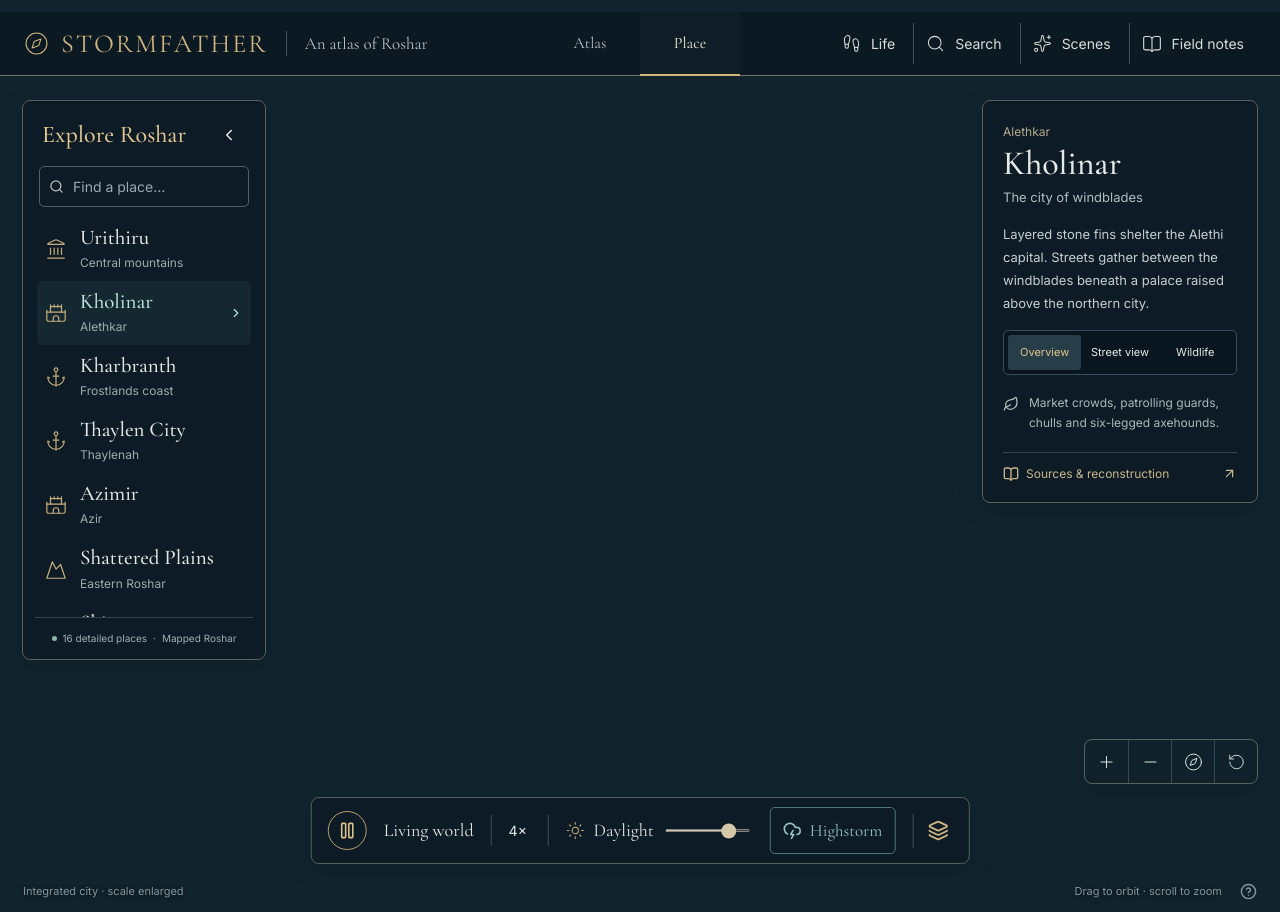
Test case: does not invent a location for an unknown gazetteer entry
Type "Palanaeum" into the field named "Search Roshar".
click(155, 186); type("Palanaeum")  # box [71,175,239,198]
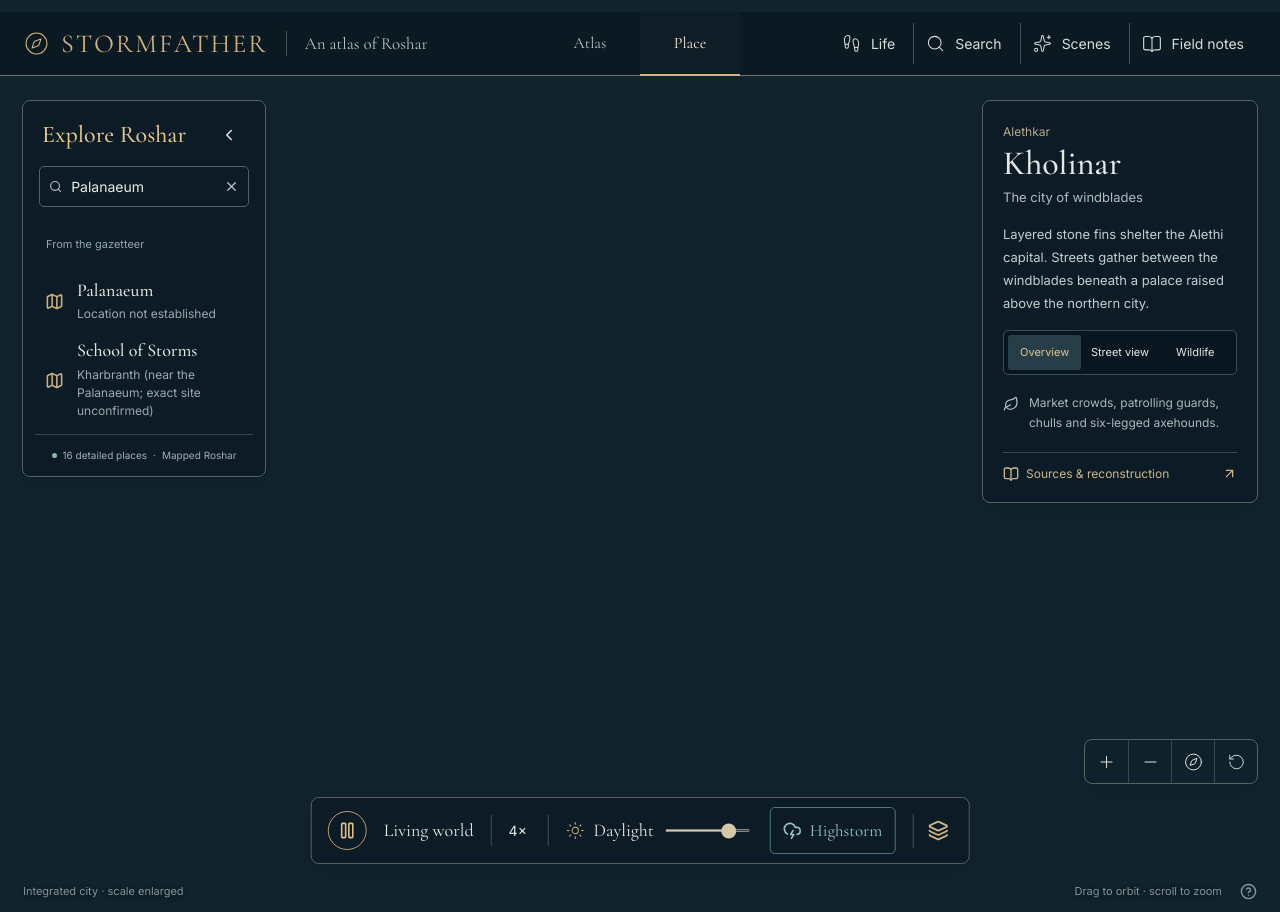
Click the text "Palanaeum".
click(115, 290)  # box [77,278,153,300]
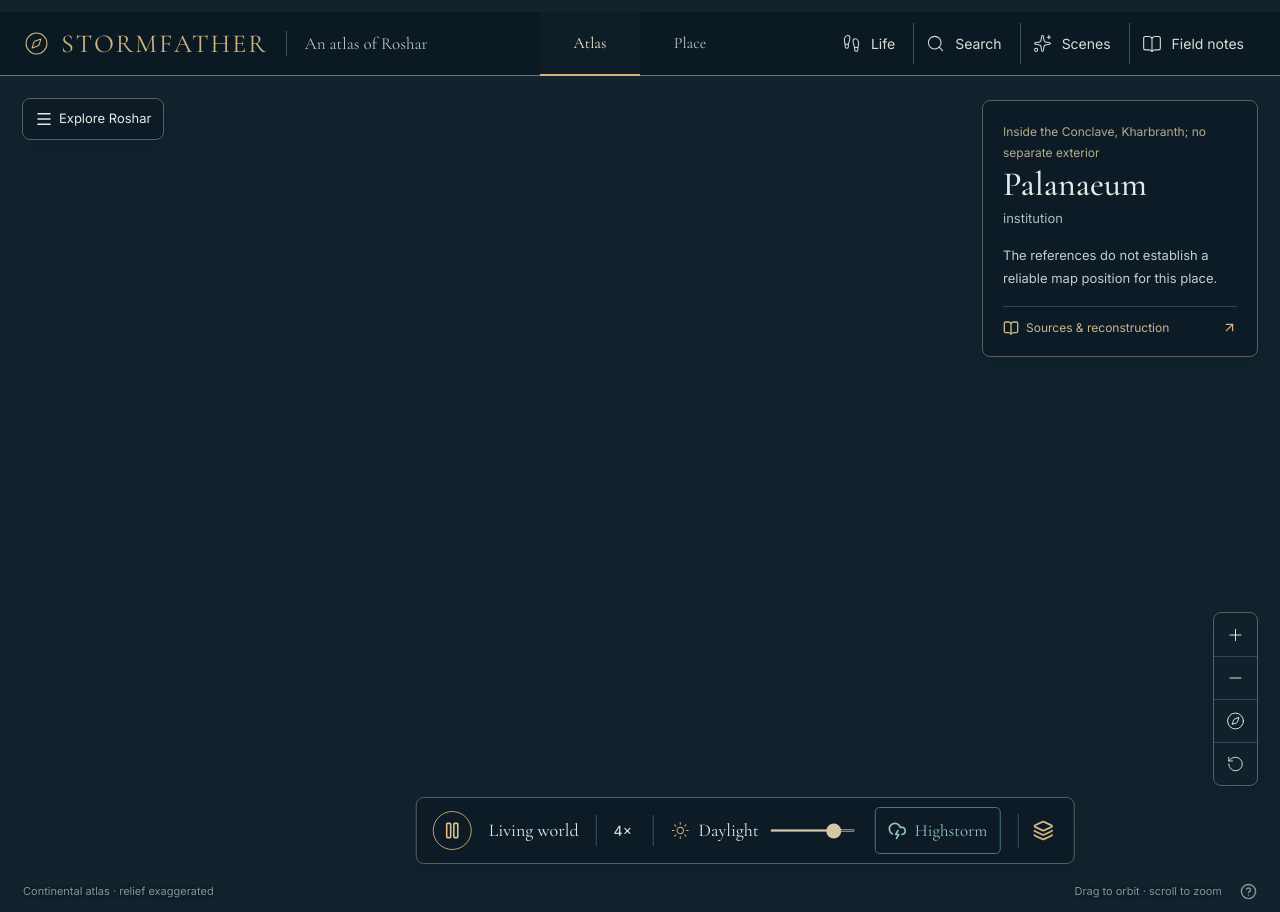
Result: the text "do not establish a reliable map position" is shown at [1003,247,1217,286]
